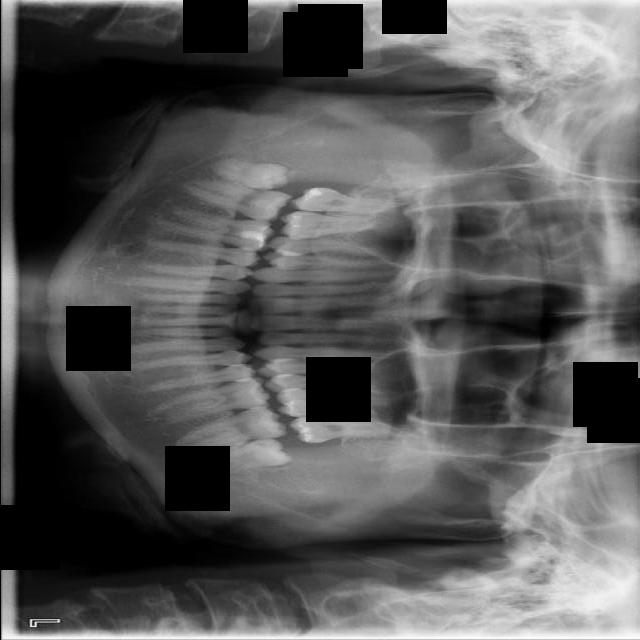52: (233, 394, 291, 453), (237, 176, 292, 233), (228, 212, 277, 257), (220, 374, 271, 414), (286, 413, 343, 445), (277, 207, 328, 242), (275, 386, 324, 418), (290, 187, 345, 212)
73: (39, 599, 50, 603)
BioHorizons Implant: (288, 416, 404, 443)
Biomet 3i Implant: (194, 434, 292, 481)
Blue Sky Bio Implant: (173, 402, 288, 454)
Caries: (290, 185, 405, 218)
Implant: (179, 177, 292, 225)
Keystone Dental Implant: (210, 156, 289, 193)
